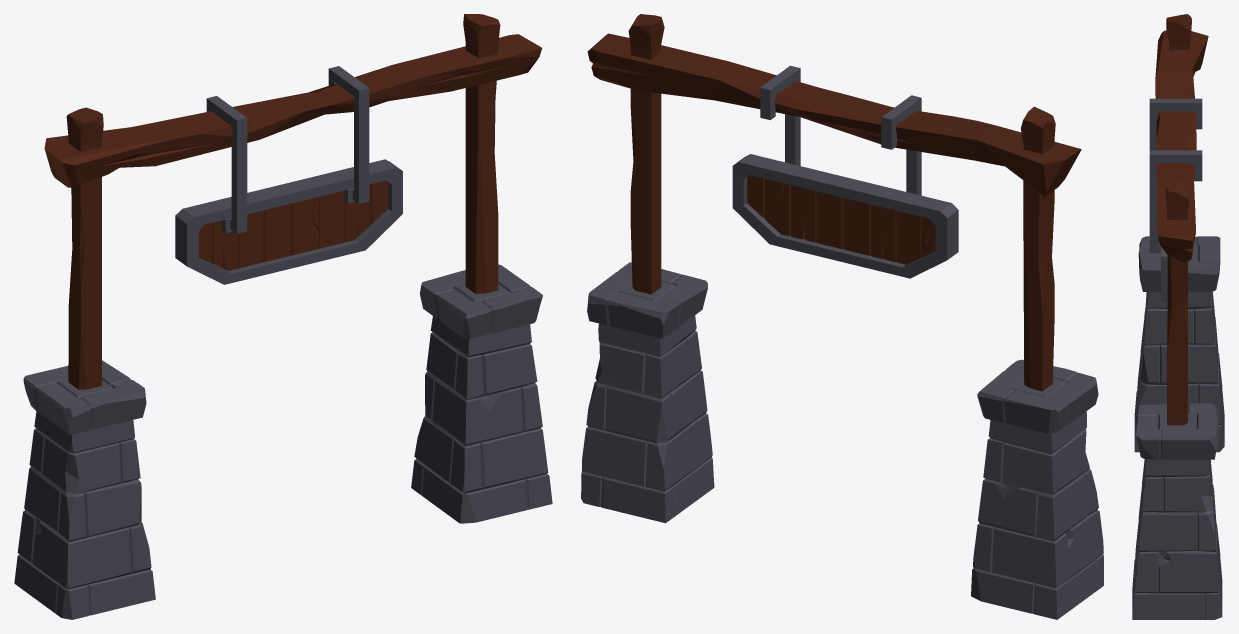
Rendered from Gate.fbx.
3 renders of one model, left to right at view 1: azimuth 30°, elevation 25°; view 2: azimuth 150°, elevation 25°; view 3: azimuth 270°, elevation 25°, orthographic. The views are drawn at different scales.
Visible parts, largest first — view 1: Gate; view 2: Gate; view 3: Gate.
Part boxes in pixels (box(x1,y1,x2,y2)): Gate: box(14, 14, 552, 619); Gate: box(581, 14, 1103, 619); Gate: box(1132, 14, 1224, 619).
Size of the model in its own units: 129 by 120 by 24.09.
